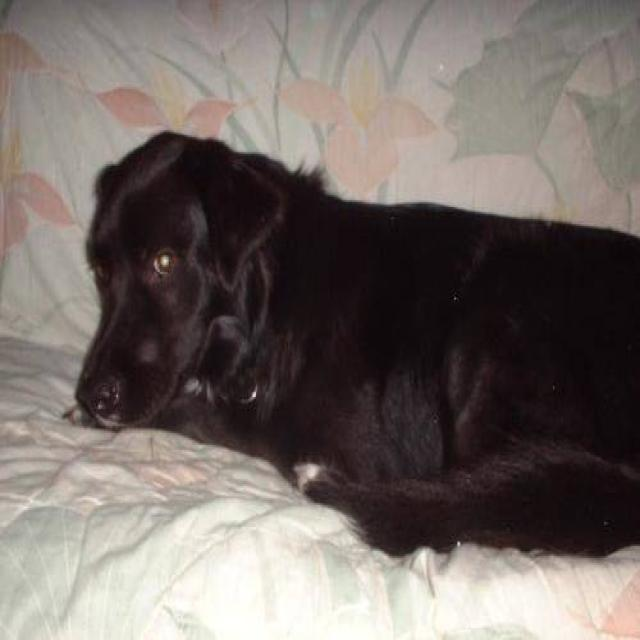Dog: (72, 104, 283, 450)
